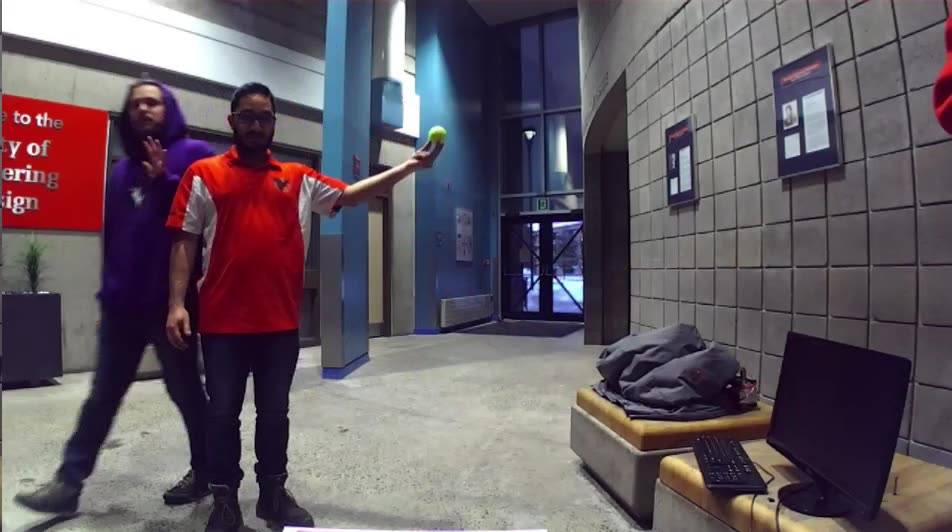tennis_ball: (428, 125, 450, 146)
